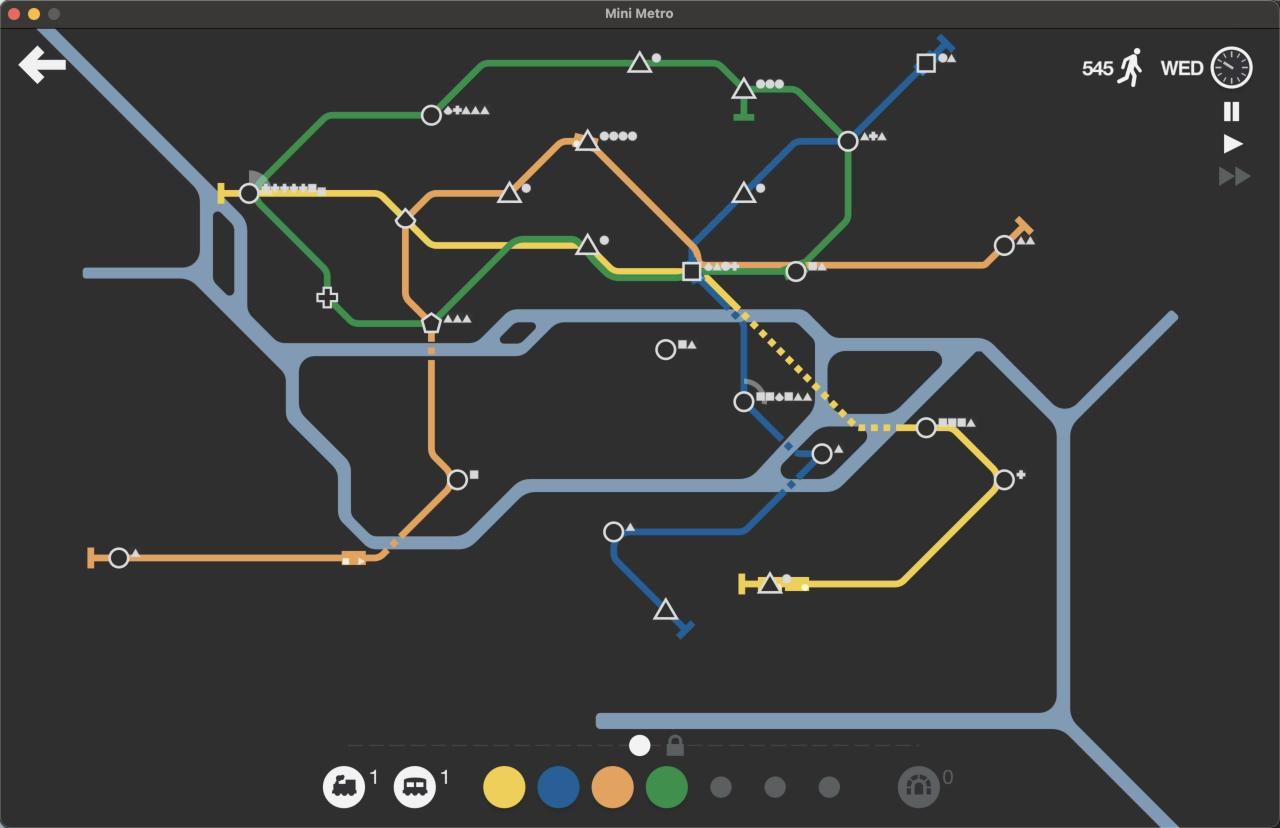CIRCLE: (810, 442, 833, 466), (733, 390, 756, 413), (603, 521, 626, 544), (837, 129, 859, 152), (420, 104, 442, 127), (447, 468, 469, 491), (916, 416, 938, 439), (993, 234, 1015, 257), (785, 261, 808, 283), (655, 338, 677, 361), (994, 469, 1016, 491), (238, 182, 260, 204), (108, 547, 130, 569)
CROSS: (316, 286, 338, 308)
PENTAGON: (420, 312, 442, 336)
SQUARE: (681, 261, 702, 282), (916, 53, 935, 74)
TRIANGLE: (626, 49, 654, 74), (574, 232, 602, 256), (731, 179, 757, 204), (756, 570, 783, 594), (653, 597, 680, 621), (497, 180, 524, 204), (573, 127, 600, 151), (730, 75, 756, 99), (625, 522, 635, 532)
WEDGE: (395, 207, 418, 229)
